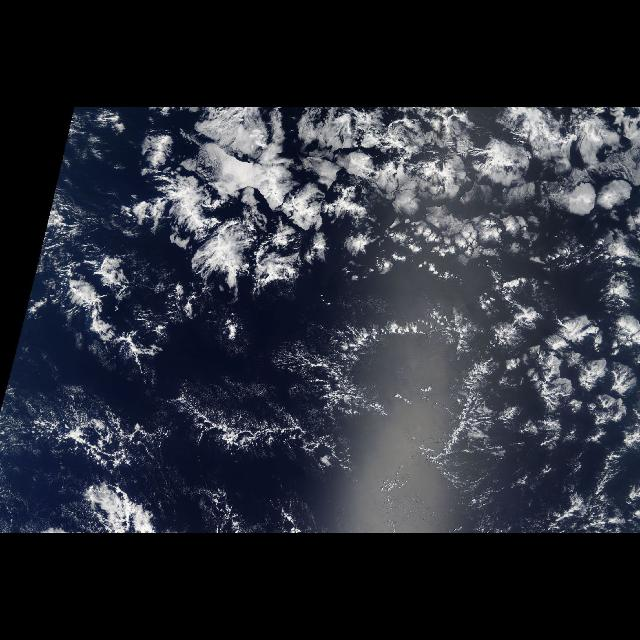Fish: (12, 298, 494, 472)
Flower: (131, 111, 639, 503)
Sugar: (168, 295, 492, 533)
